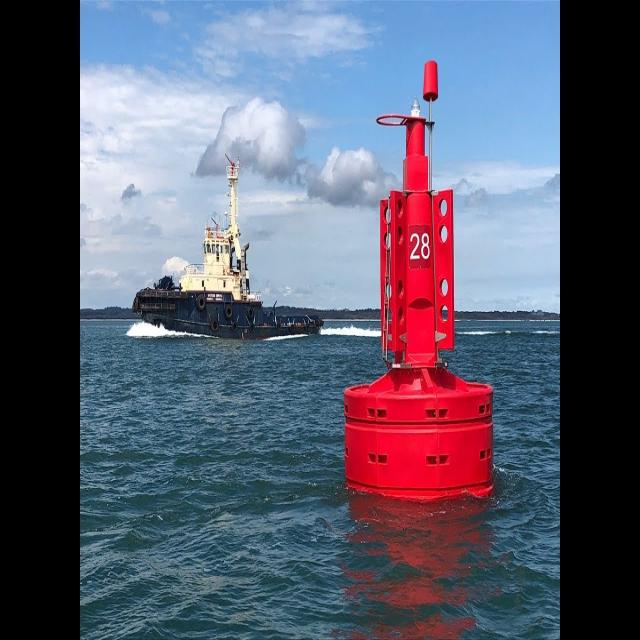2.1 lateral mark -P-: (346, 45, 501, 515)
